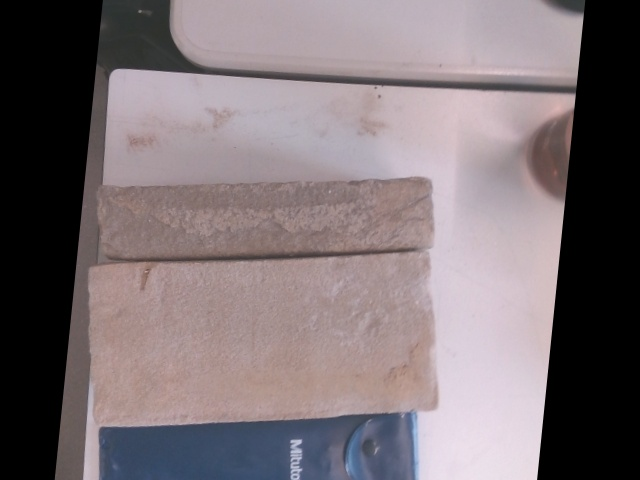brick: (89, 255, 435, 426)
